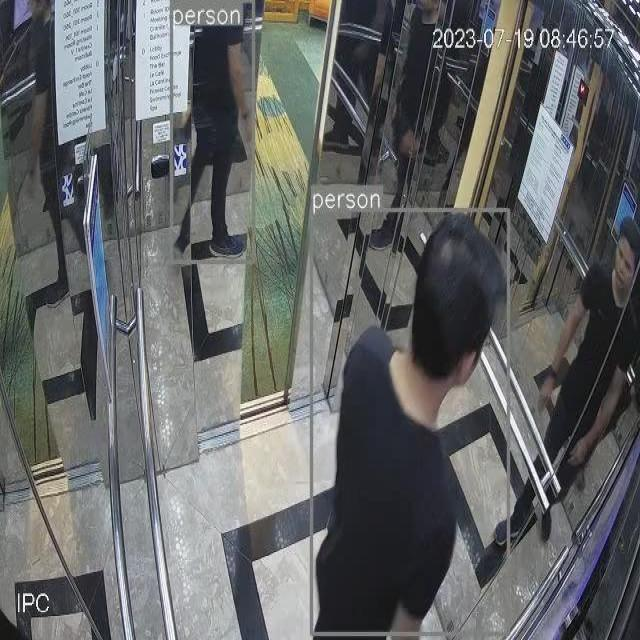person: (311, 206, 509, 640), (513, 199, 640, 636), (169, 0, 251, 261)
